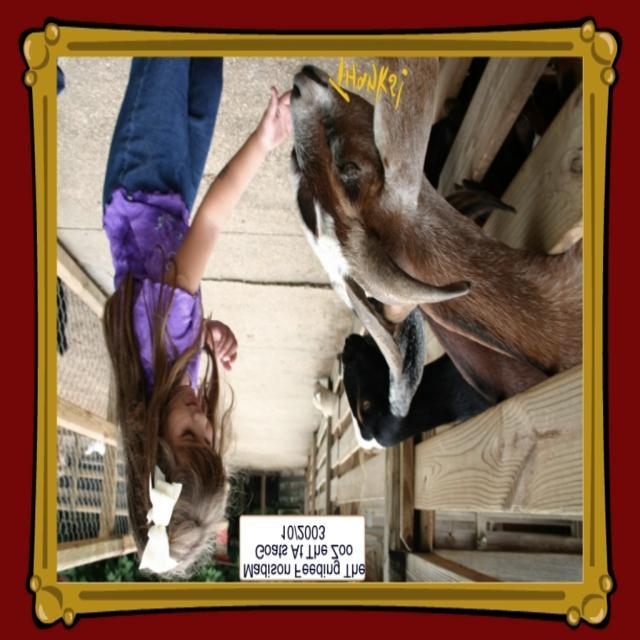Goat: (288, 57, 583, 416)
